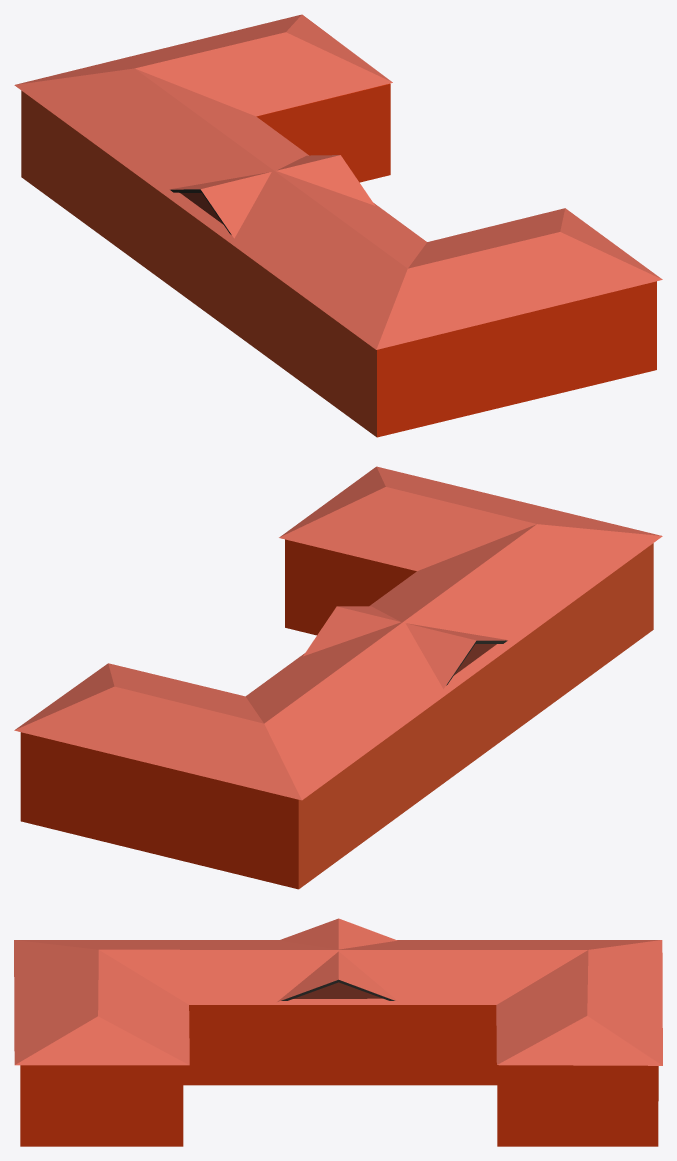
Rendered from kazar.glb.
3 renders of one model, top to bottom at view 1: azimuth 30°, elevation 25°; view 2: azimuth 150°, elevation 25°; view 3: azimuth 270°, elevation 25°, orthographic. The views are drawn at different scales.
Parts seen in each view (by area): view 1: kazar; view 2: kazar; view 3: kazar.
Part boxes in pixels (x1,y1,x2,y2): kazar: (14,14,662,437); kazar: (14,466,662,889); kazar: (14,918,662,1146).
Size of the model in its own units: 11.6 by 4.59 by 25.23.
